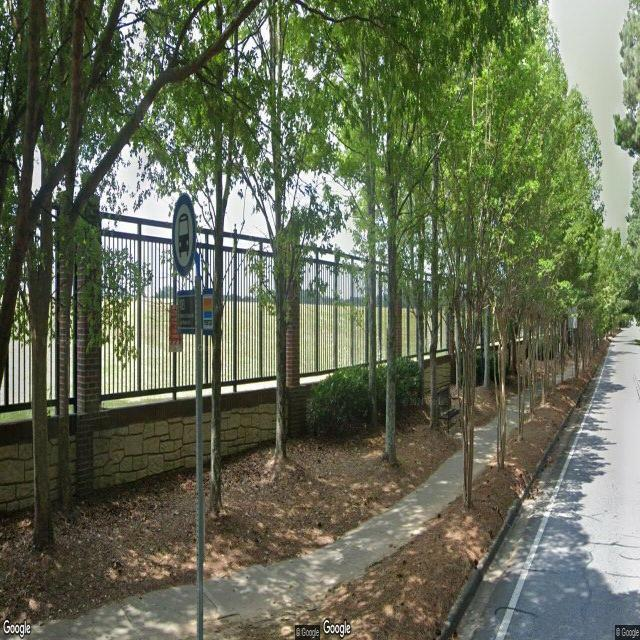seating: (436, 385, 462, 435)
